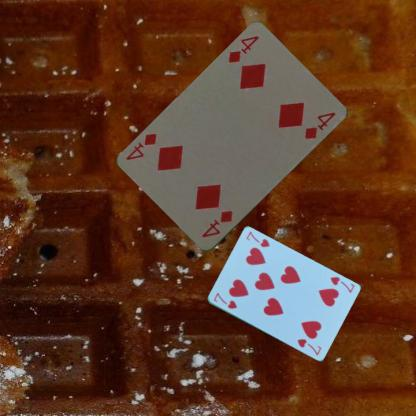4d: (198, 206, 234, 239), (226, 34, 260, 66)
7h: (211, 290, 238, 310), (328, 274, 355, 294)
